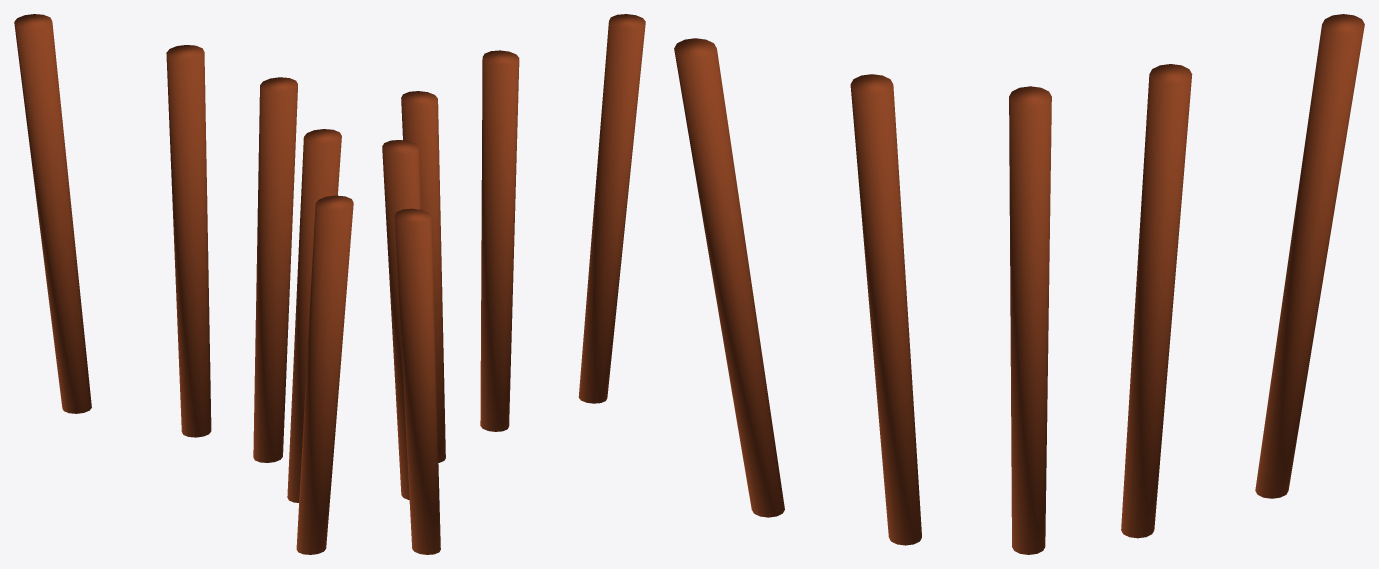
File: sandalye_srt_.fbx
The picture shows the model from 3 angles, left to right: view 1: azimuth 30°, elevation 25°; view 2: azimuth 150°, elevation 25°; view 3: azimuth 270°, elevation 25°; orthographic projection. The views are drawn at different scales.
Visible parts, largest first — view 1: Cylinder.001; view 2: Cylinder.001; view 3: Cylinder.001.
Part boxes in pixels (<box>): Cylinder.001: <box>14,14,353,554</box>; Cylinder.001: <box>382,14,645,554</box>; Cylinder.001: <box>674,14,1364,554</box>.
Size of the model in its own units: 40.11 by 92.08 by 126.
Materials: 1 (1 with a texture image).
